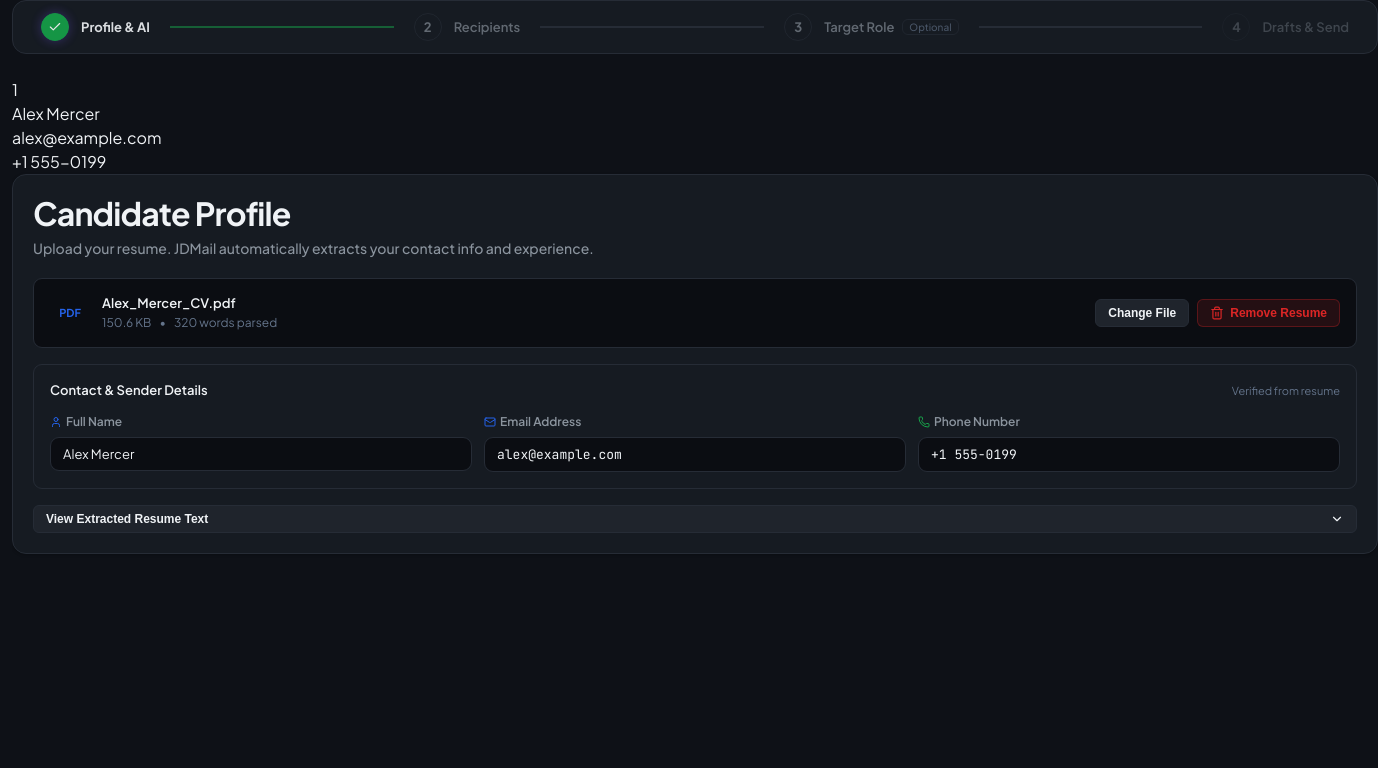
it: Adversarial Stress Test: Step 1 Keystroke Isolation & Auto-Advance › handles XSS, SQLi, and unicode emojis in profile fields safely on Step 1
The image size is (1378, 768).
Replace the text in the field with placeholder "Candidate Name" below "Full Name" with "Robert'); DROP TABLE Students;--": (261, 454) [50,437,472,471]
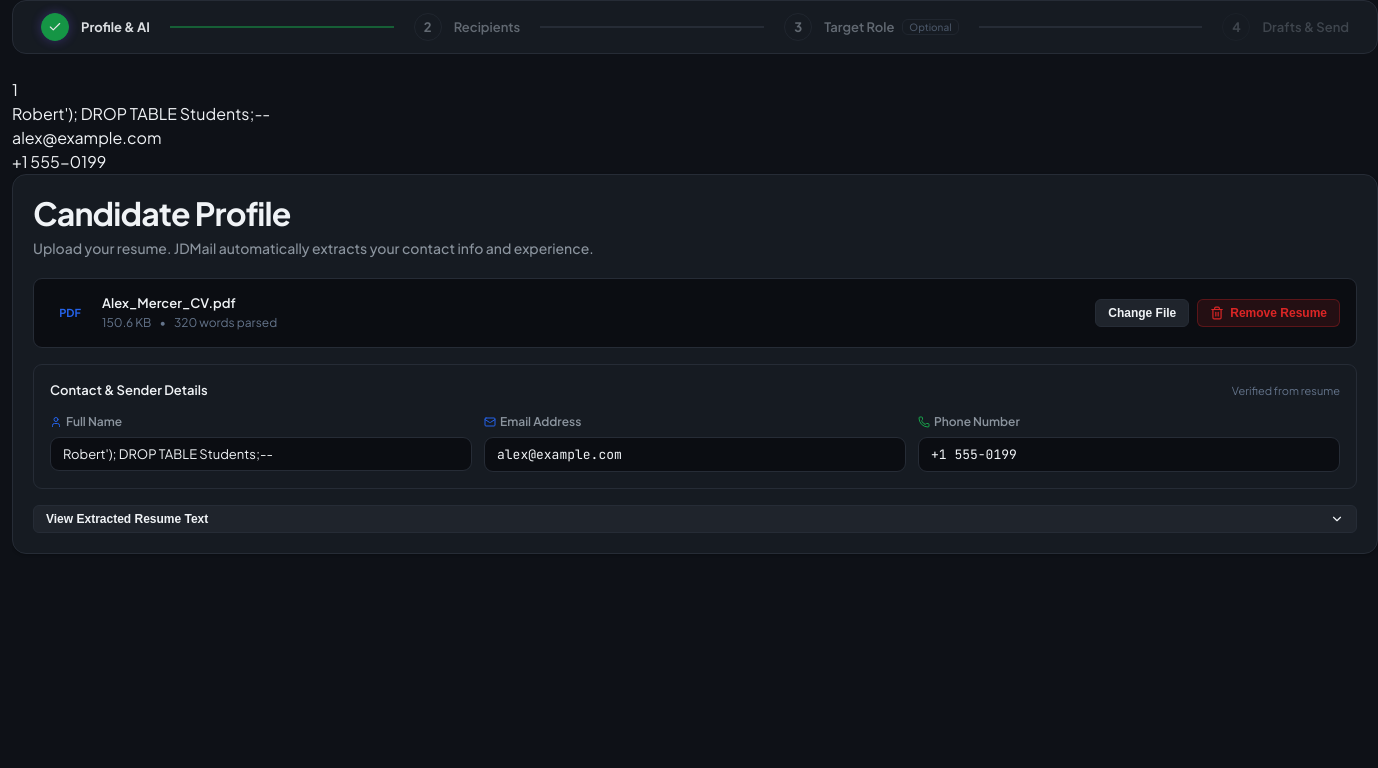
Replace the text in the field with placeholder "name@example.com" below "Email Address" with "<script>alert(document.cookie)</script>": (695, 454) [484,437,906,472]
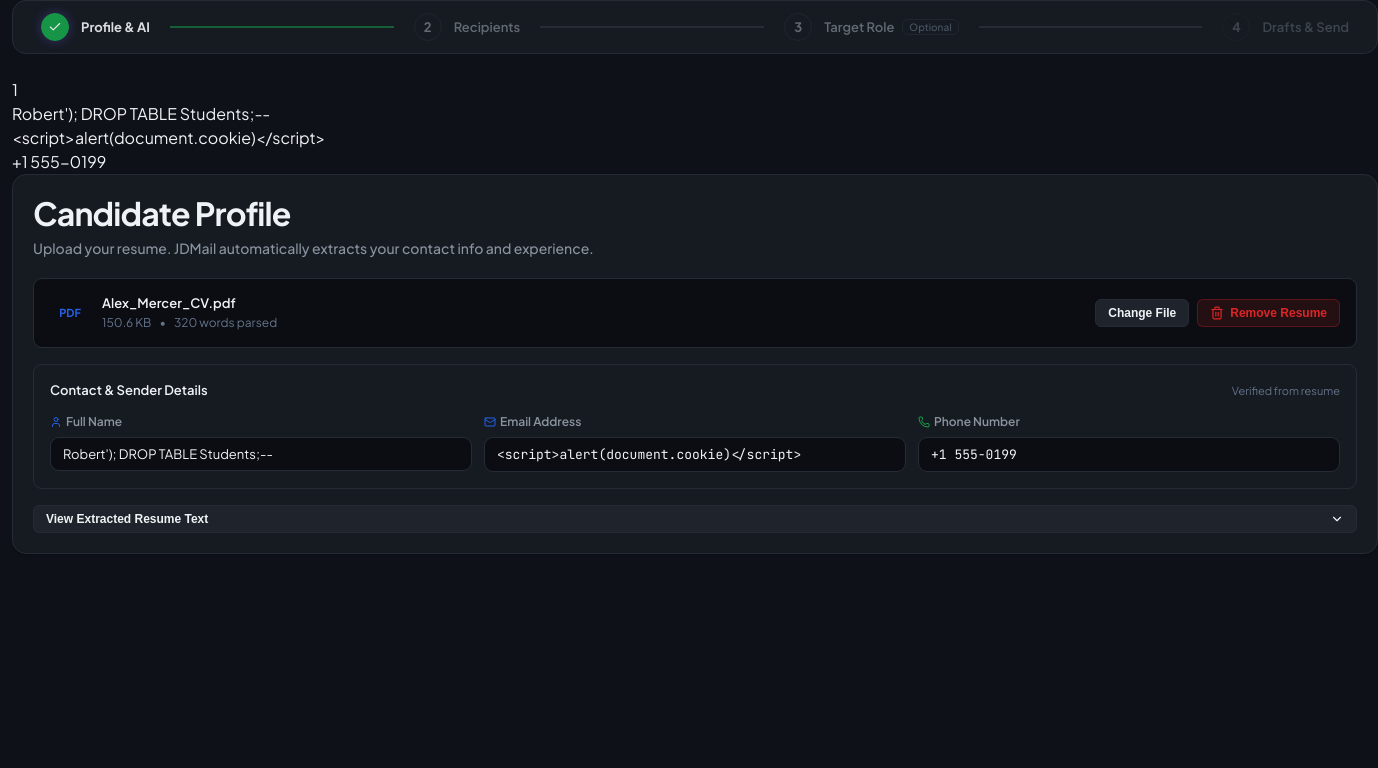
Replace the text in the field with placeholder "+1 (555) 000-0000" below "Phone Number" with "👩‍💻 Dr. Sören Kierkegaard 🚀 (ñ, å, ø)": (1129, 454) [918,437,1340,472]
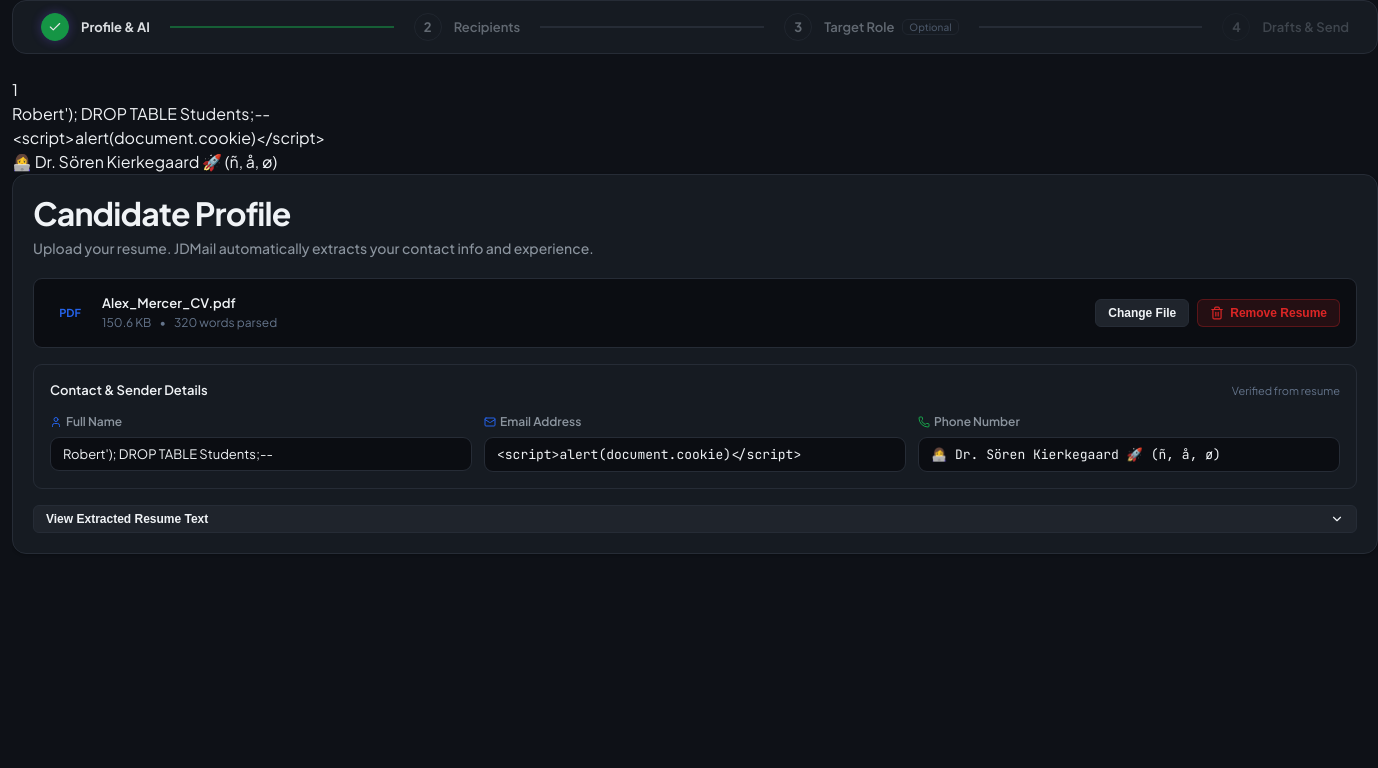
Check: the text with test id "candidate-name-display" reads "Robert'); DROP TABLE Students;--", box [12,103,270,124]
Check: the text with test id "candidate-email-display" reads "<script>alert(document.cookie)</script>", box [12,127,326,148]
Check: the text with test id "candidate-phone-display" reads "👩‍💻 Dr. Sören Kierkegaard 🚀 (ñ, å, ø)", box [12,151,277,172]
